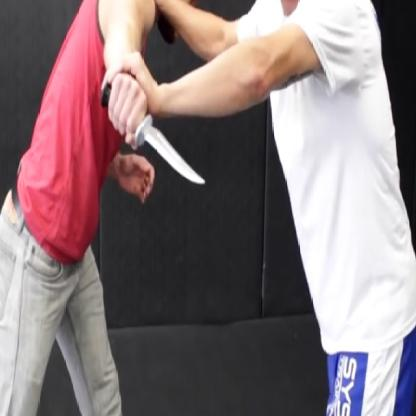knife: (93, 74, 211, 198)
